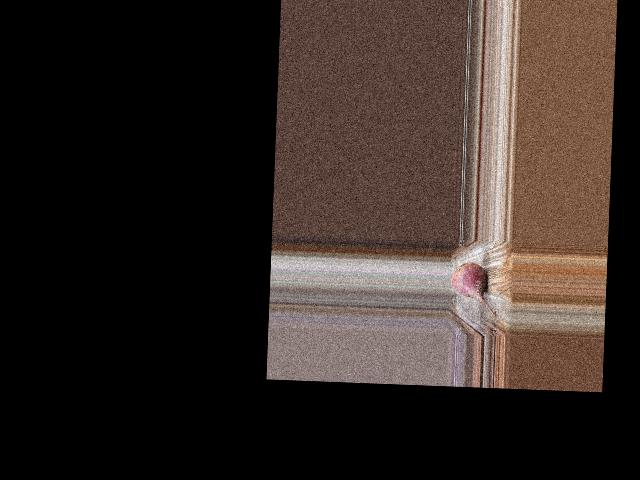beet: (450, 262, 497, 316)
